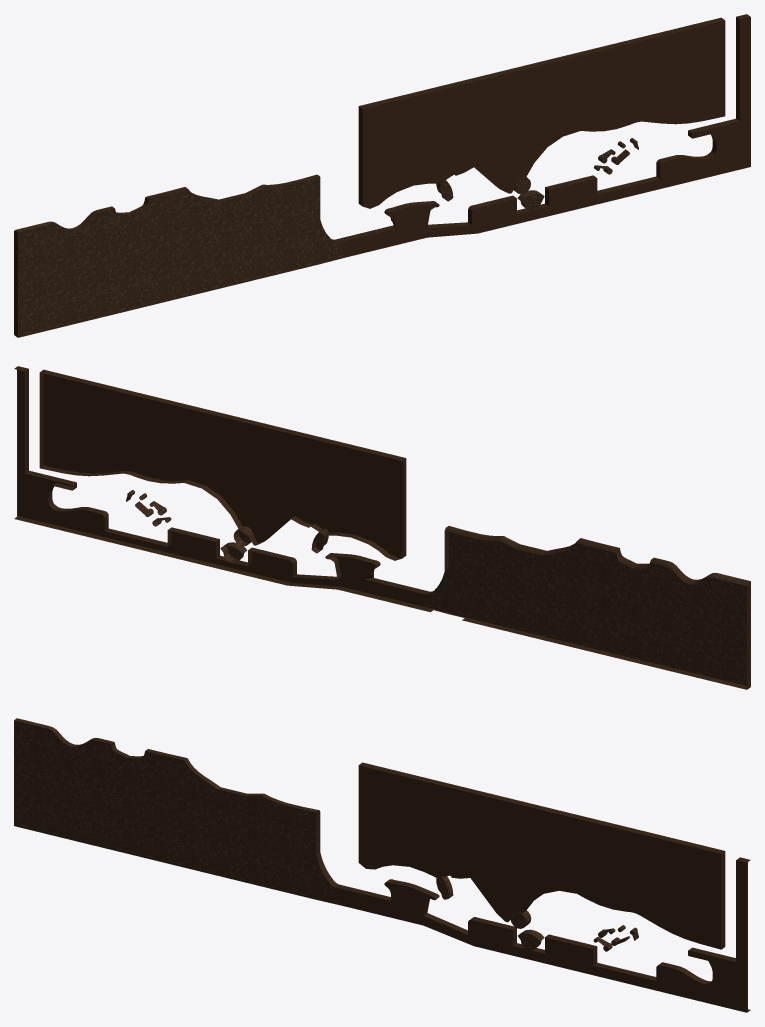
Rendered from PrototypeLevel5.FBX.
The picture shows the model from 3 angles, top to bottom: view 1: azimuth 30°, elevation 25°; view 2: azimuth 150°, elevation 25°; view 3: azimuth 330°, elevation 25°; orthographic projection.
Visible parts, largest first — view 1: NewTerrain; view 2: NewTerrain; view 3: NewTerrain.
Boxes of the visible parts, box(x1,y1,x2,y2) form: NewTerrain: box(14, 14, 750, 337); NewTerrain: box(14, 366, 750, 689); NewTerrain: box(14, 718, 750, 1012).
Bounding box in the file's own units: 8714 × 1735 × 100.
